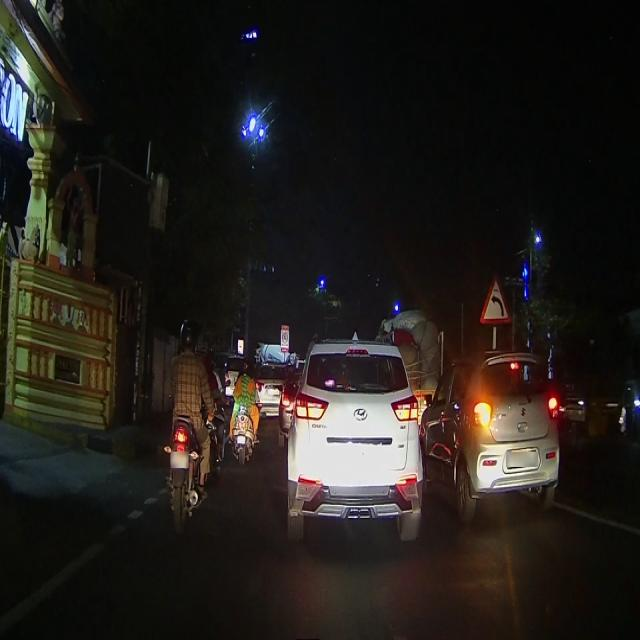left-hand-curve: (476, 269, 517, 336)
